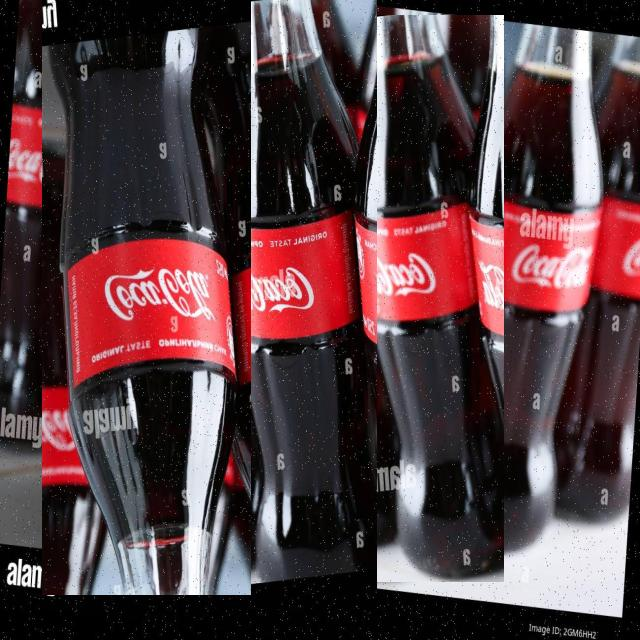coca-cola: (42, 0, 251, 595), (214, 0, 377, 609), (441, 17, 614, 569), (341, 15, 504, 582)
